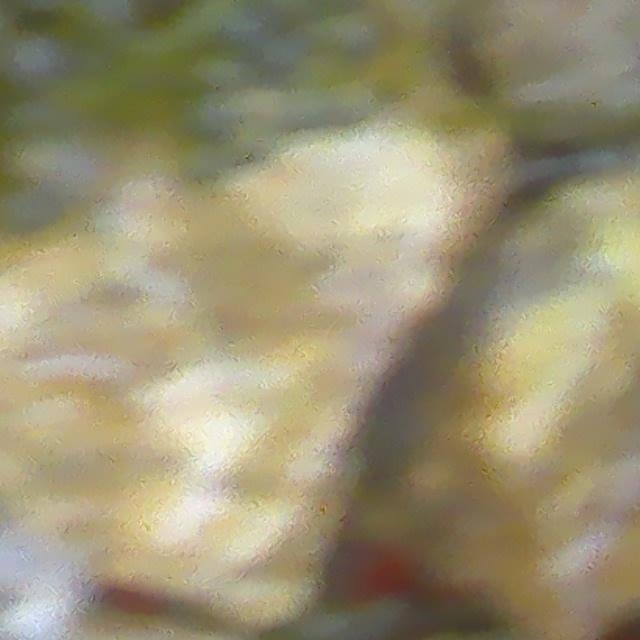SeaGrape: (2, 25, 69, 90)
